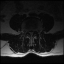CCS_normal: (30, 29, 32, 38)
LFS_severe_stenosis: (34, 29, 36, 34)
LLS_normal: (32, 30, 34, 35)
RFS_severe_stenosis: (27, 29, 29, 34)
RLS_stenosis: (29, 30, 30, 35)
